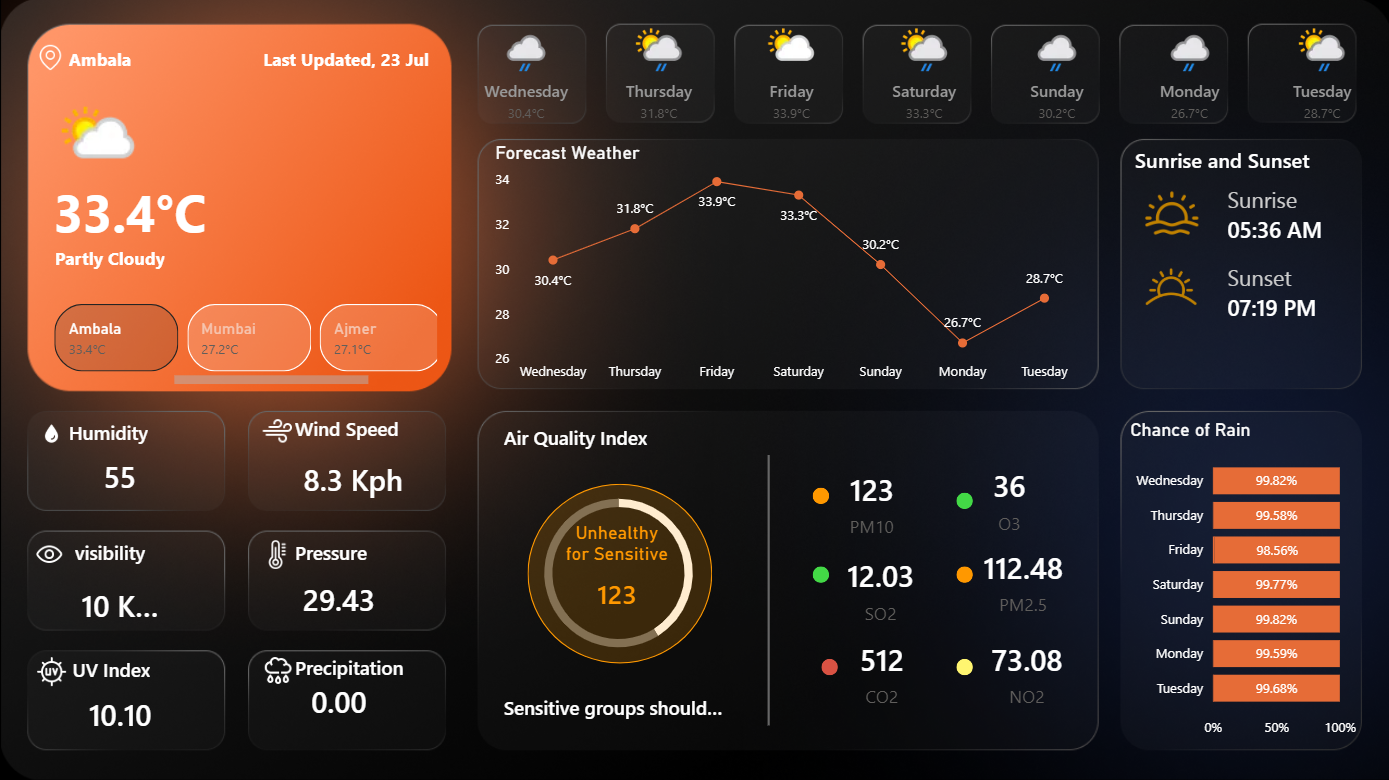

What the dashboard file says about the page in this screenshot:
{"tool":"powerbi","page":{"name":"Page 1","canvas":[1280,720],"ordinal":0},"visuals":[{"type":"donutChart","fields":{"Y":["Sum(Current.current.air_quality.pm10)","_Measure.Left_Value_PM10"]},"box":[472.6,437.1,193.1,180.7],"z":0},{"type":"shape","box":[484.9,444.8,169.9,165.2],"z":1000},{"type":"advancedSlicerVisual","fields":{"Values":["Locations.location.name"]},"box":[38.4,274.4,369.1,85.1],"z":2000},{"type":"shape","box":[49.4,150.9,207.2,86.5],"z":3000},{"type":"shape","box":[50.4,220.3,358.6,33.1],"z":4000},{"type":"shape","box":[63.4,37.4,89.3,33.1],"z":5000},{"type":"shape","box":[229,37.4,165.6,33.1],"z":6000},{"type":"image","box":[30.2,36,33.1,34.6],"z":7000},{"type":"cardVisual","fields":{"Data":["Min(Current.current.condition.icon)"]},"box":[30.2,70.6,115.2,95],"z":8000},{"type":"image","box":[24.5,491.1,41.8,37.4],"z":9000},{"type":"shape","box":[69.1,491.1,83.5,33.1],"z":10000},{"type":"image","box":[223.2,377.3,63.4,38.9],"z":11000},{"type":"image","box":[28.8,599.1,37.4,37.4],"z":12000},{"type":"image","box":[231.9,492.5,46.1,36],"z":13000},{"type":"image","box":[31.7,384.5,30.2,27.4],"z":14000},{"type":"image","box":[233.3,596.2,44.6,40.3],"z":15000},{"type":"shape","box":[66.2,599.1,83.5,33.1],"z":16000},{"type":"shape","box":[270.8,491.1,83.5,33.1],"z":17000},{"type":"shape","box":[270.8,596.2,109.5,33.1],"z":18000},{"type":"shape","box":[270.8,377.3,109.5,33.1],"z":19000},{"type":"shape","box":[63.4,380.2,109.5,33.1],"z":20000},{"type":"card","fields":{"Values":["Sum(Current.current.humidity)"]},"box":[76.3,410.4,69.1,59],"z":21000},{"type":"card","fields":{"Values":["_Measure.Wind_Speed"]},"box":[270.3,412.4,109.7,58.7],"z":22000},{"type":"card","fields":{"Values":["Sum(Current.current.pressure_in)"]},"box":[270.3,523.5,83.4,58.7],"z":23000},{"type":"card","fields":{"Values":["Sum(Current.current.precip_in)"]},"box":[270.3,617.8,83.4,58.7],"z":24000},{"type":"card","fields":{"Values":["Sum(Current.current.uv)"]},"box":[69.5,628.6,83.4,58.7],"z":25000},{"type":"card","fields":{"Values":["_Measure.Visibility"]},"box":[69.5,528.2,83.4,58.7],"z":26000},{"type":"lineChart","title":"Forecast Weather","fields":{"Y":["Sum(Forecast_Days.forecast.forecastday.day.avgtemp_c)"],"Category":["Forecast_Days.Day_Name"]},"box":[451,129.7,545.2,230.1],"z":27000},{"type":"advancedSlicerVisual","fields":{"Values":["Forecast_Days.Day_Name"]},"box":[421.6,12.4,858.7,117.4],"z":28000},{"type":"shape","box":[1044,126.6,168.3,40.1],"z":29000},{"type":"shape","box":[1129,183.8,100.4,54],"z":30000},{"type":"shape","box":[1129,254.8,100.4,54],"z":31000},{"type":"shape","box":[1129,156,100.4,54],"z":32000},{"type":"shape","box":[1129,227,100.4,54],"z":33000},{"type":"image","box":[1034.8,227,84.9,72.6],"z":34000},{"type":"image","box":[1045.6,166.8,63.3,58.7],"z":35000},{"type":"hundredPercentStackedBarChart","title":"Chance of Rain","fields":{"Y":["_Measure.Left_value_Rain","Sum(Forecase_Hours.forecast.forecastday.hour.chance_of_rain)"],"Category":["Forecast_Days.Day_Name"]},"box":[1034.8,384.6,217.8,302.7],"z":36000},{"type":"shape","box":[463.3,384.6,159.1,34],"z":37000},{"type":"card","fields":{"Values":["Sum(Current.current.air_quality.pm10)"]},"box":[747.5,413.9,109.7,97.3],"z":38000},{"type":"card","fields":{"Values":["Sum(Current.current.air_quality.pm2_5)"]},"box":[886.5,484.9,109.7,97.3],"z":39000},{"type":"card","fields":{"Values":["Sum(Current.current.air_quality.no2)"]},"box":[889.6,569.9,109.7,97.3],"z":40000},{"type":"card","fields":{"Values":["Sum(Current.current.air_quality.co)"]},"box":[756.8,569.9,109.7,97.3],"z":41000},{"type":"card","fields":{"Values":["Sum(Current.current.air_quality.o3)"]},"box":[874.1,410.8,109.7,97.3],"z":42000},{"type":"card","fields":{"Values":["Sum(Current.current.air_quality.so2)"]},"box":[755.2,492.7,109.7,97.3],"z":43000},{"type":"shape","box":[747.5,447.9,15.4,15.4],"z":44000},{"type":"shape","box":[755.2,605.4,15.4,15.4],"z":45000},{"type":"shape","box":[747.5,520.5,15.4,15.4],"z":46000},{"type":"shape","box":[878.8,520.5,15.4,15.4],"z":47000},{"type":"shape","box":[878.8,605.4,15.4,15.4],"z":48000},{"type":"shape","box":[878.8,452.5,15.4,15.4],"z":49000},{"type":"shape","box":[667.2,418.5,80.3,248.7],"z":50000},{"type":"card","fields":{"Values":["Sum(Current.current.air_quality.pm10)"]},"box":[512.7,478.8,109.7,97.3],"z":51000},{"type":"shape","box":[463.3,633.2,244,34],"z":51001}]}

Visuals, with their boxes in screenshot pixels (x1, y1, x2, y2), scaled from the page's 1280x720 canvas onto the 1389x780 screenshot:
donutChart - Sum(Current.current.air_quality.pm10) x _Measure.Left_Value_PM10: 513/474/722/669
shape: 526/482/711/661
advancedSlicerVisual - Locations.location.name: 42/297/442/389
shape: 54/163/278/257
shape: 55/239/444/275
shape: 69/41/166/76
shape: 249/41/428/76
image: 33/39/69/76
cardVisual - Min(Current.current.condition.icon): 33/76/158/179
image: 27/532/72/573
shape: 75/532/166/568
image: 242/409/311/451
image: 31/649/72/690
image: 252/534/302/573
image: 34/417/67/446
image: 253/646/302/690
shape: 72/649/162/685
shape: 294/532/384/568
shape: 294/646/413/682
shape: 294/409/413/445
shape: 69/412/188/448
card - Sum(Current.current.humidity): 83/445/158/509
card - _Measure.Wind_Speed: 293/447/412/510
card - Sum(Current.current.pressure_in): 293/567/384/631
card - Sum(Current.current.precip_in): 293/669/384/733
card - Sum(Current.current.uv): 75/681/166/745
card - _Measure.Visibility: 75/572/166/636
"Forecast Weather" lineChart: 489/141/1081/390
advancedSlicerVisual - Forecast_Days.Day_Name: 458/13/1388/141
shape: 1133/137/1316/181
shape: 1225/199/1334/258
shape: 1225/276/1334/335
shape: 1225/169/1334/227
shape: 1225/246/1334/304
image: 1123/246/1215/325
image: 1135/181/1203/244
"Chance of Rain" hundredPercentStackedBarChart: 1123/417/1359/745
shape: 503/417/675/453
card - Sum(Current.current.air_quality.pm10): 811/448/930/554
card - Sum(Current.current.air_quality.pm2_5): 962/525/1081/631
card - Sum(Current.current.air_quality.no2): 965/617/1084/723
card - Sum(Current.current.air_quality.co): 821/617/940/723
card - Sum(Current.current.air_quality.o3): 949/445/1068/550
card - Sum(Current.current.air_quality.so2): 820/534/939/639
shape: 811/485/828/502
shape: 820/656/836/673
shape: 811/564/828/581
shape: 954/564/970/581
shape: 954/656/970/673
shape: 954/490/970/507
shape: 724/453/811/723
card - Sum(Current.current.air_quality.pm10): 556/519/675/624
shape: 503/686/768/723
